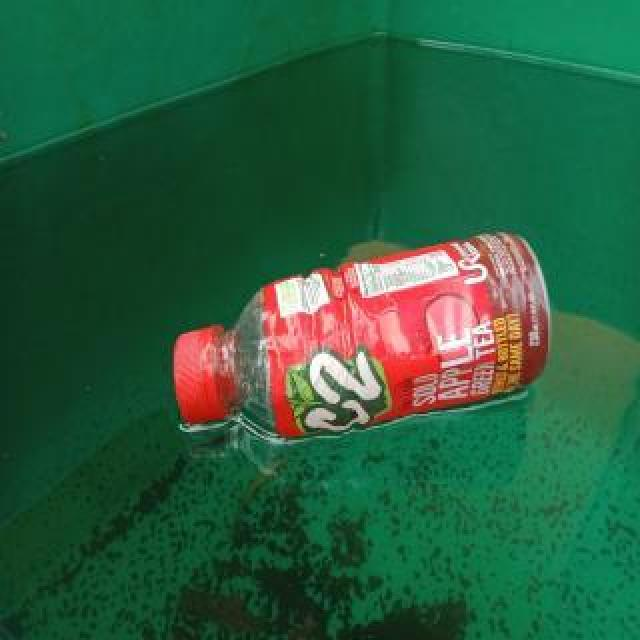bottle: (172, 226, 554, 442)
